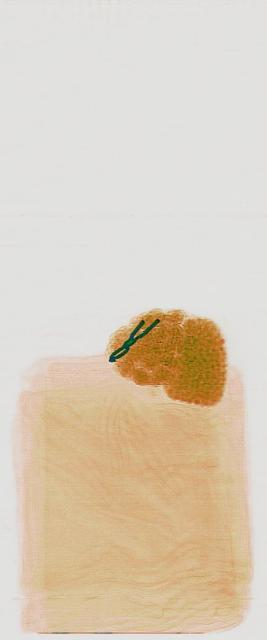Pliers: (106, 304, 157, 368)
